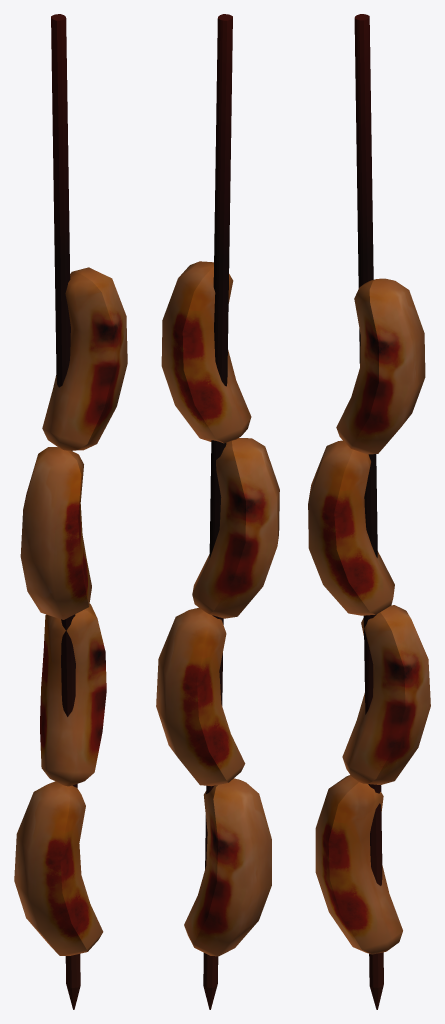
File: SausageWeapon.fbx
The picture shows the model from 3 angles, left to right: view 1: azimuth 30°, elevation 25°; view 2: azimuth 150°, elevation 25°; view 3: azimuth 330°, elevation 25°; orthographic projection.
Visible parts, largest first — view 1: Cube; view 2: Cube; view 3: Cube.
Boxes of the visible parts, x1,y1,x2,y2 form: Cube: (14, 14, 127, 1009); Cube: (156, 14, 279, 1009); Cube: (308, 14, 430, 1009).
Bounding box in the file's own units: 0.0925 × 0.8348 × 0.0773.
